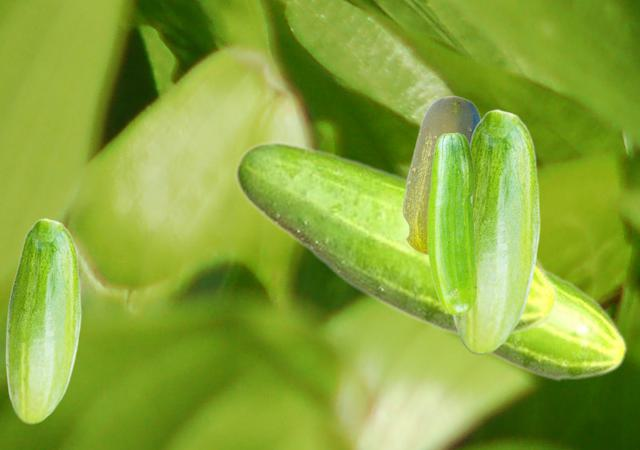cucumber: (234, 140, 558, 339), (451, 109, 539, 354), (487, 269, 627, 381), (5, 218, 80, 423), (401, 95, 480, 255), (427, 132, 476, 314)
